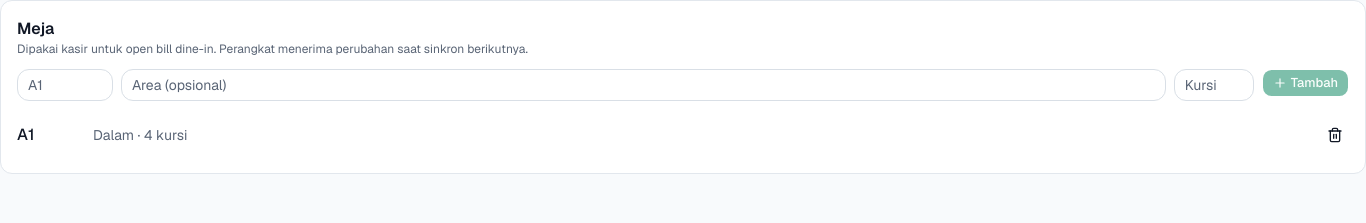
Scenario: TablesPanel › explains a label that is already used
Check: the list item with aria-label "Meja A1" is shown, box [17,113,1349,157]
Type "a1" into the field named "Label meja" at (65, 85), box [17,69,113,101]
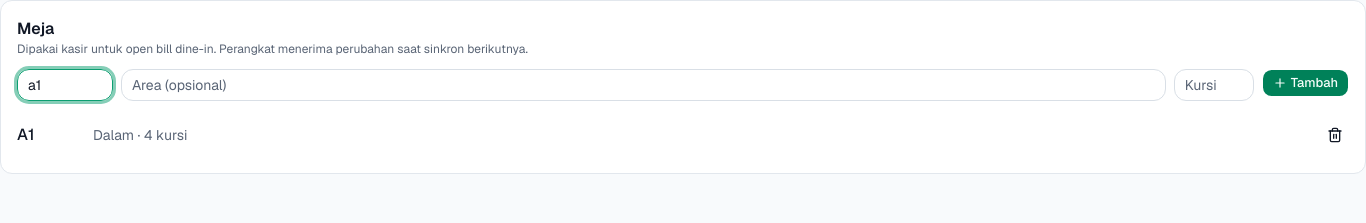
Click the button with aria-label "Tambah meja" at (1305, 83), box [1262,69,1349,97]
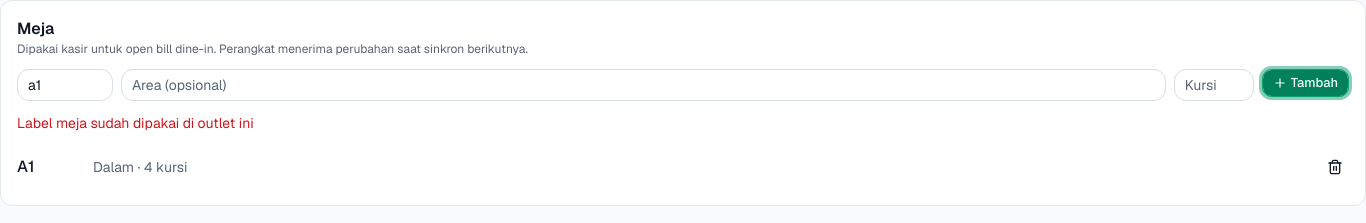
Check: the message shows "Label meja sudah dipakai", box [17,114,254,132]
